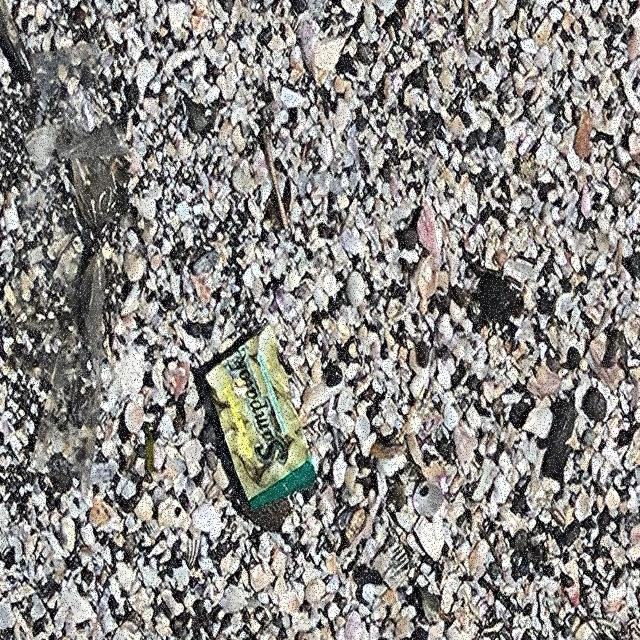plastic_waste: (206, 323, 319, 512)
